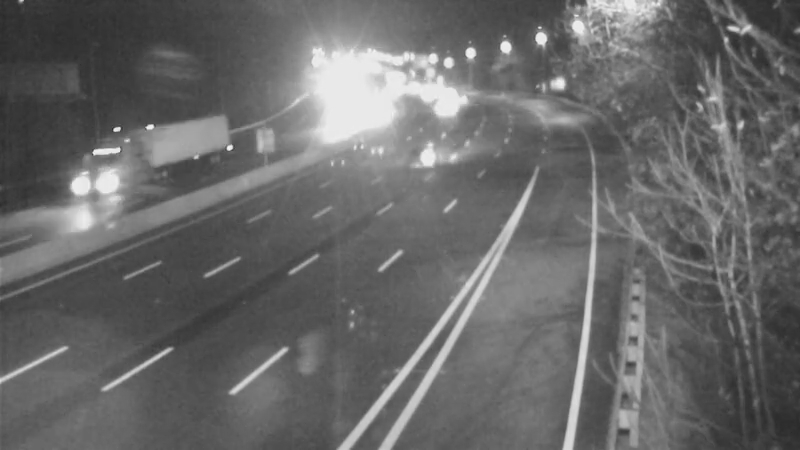vehicle: (64, 145, 144, 225), (399, 70, 449, 120), (423, 81, 473, 131), (397, 124, 447, 174)
